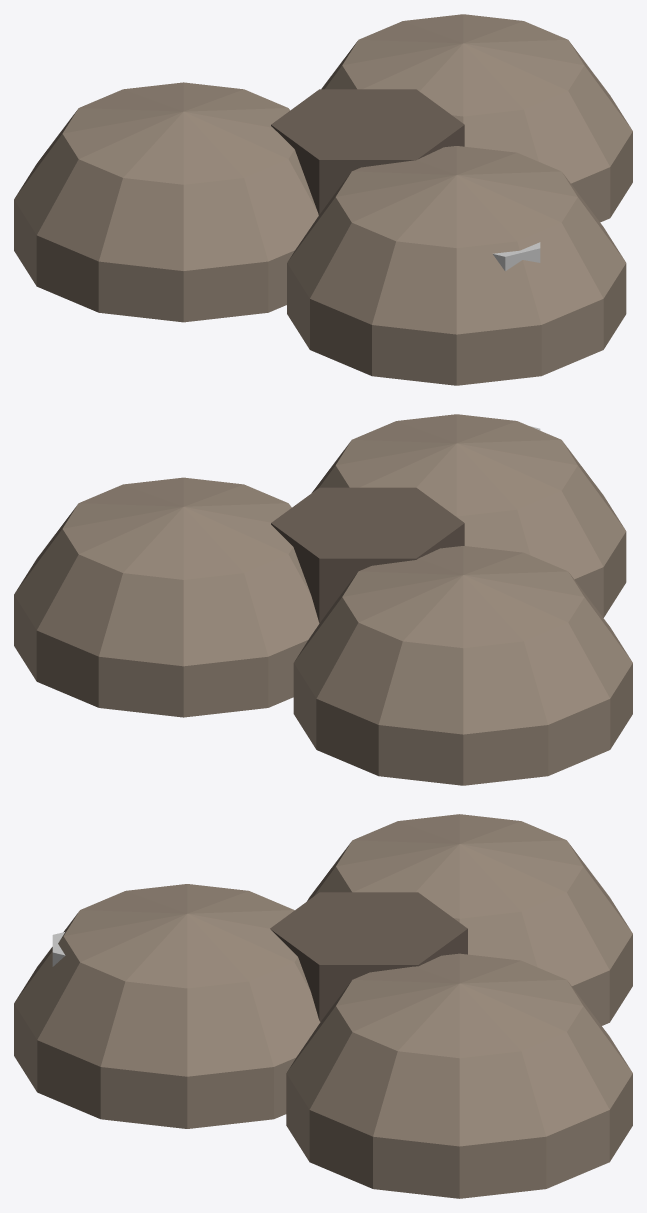
File: wasp_trap.obj
3 views of the same model, one above another, from view 1: azimuth 30°, elevation 25°; view 2: azimuth 150°, elevation 25°; view 3: azimuth 270°, elevation 25° (orthographic). The views are drawn at different scales.
Parts seen in each view (by area): view 1: wasp_trap_2, wasp_trap_0, wasp_trap_1, wasp_trap_3, wasp_trap_4; view 2: wasp_trap_0, wasp_trap_1, wasp_trap_2, wasp_trap_3; view 3: wasp_trap_1, wasp_trap_2, wasp_trap_0, wasp_trap_3.
Part boxes in pixels (x1,y1,x2,y2): wasp_trap_2: (287, 146, 626, 385); wasp_trap_0: (14, 82, 318, 322); wasp_trap_1: (321, 14, 632, 222); wasp_trap_3: (271, 89, 464, 214); wasp_trap_4: (493, 242, 540, 271); wasp_trap_0: (293, 546, 632, 785); wasp_trap_1: (14, 477, 319, 717); wasp_trap_2: (312, 414, 626, 617); wasp_trap_3: (271, 487, 464, 623); wasp_trap_1: (286, 953, 632, 1198); wasp_trap_2: (14, 884, 320, 1128); wasp_trap_0: (307, 814, 632, 1025); wasp_trap_3: (270, 892, 467, 1021).
Bounding box in the file's own units: 0.82 × 0.19 × 0.75.
